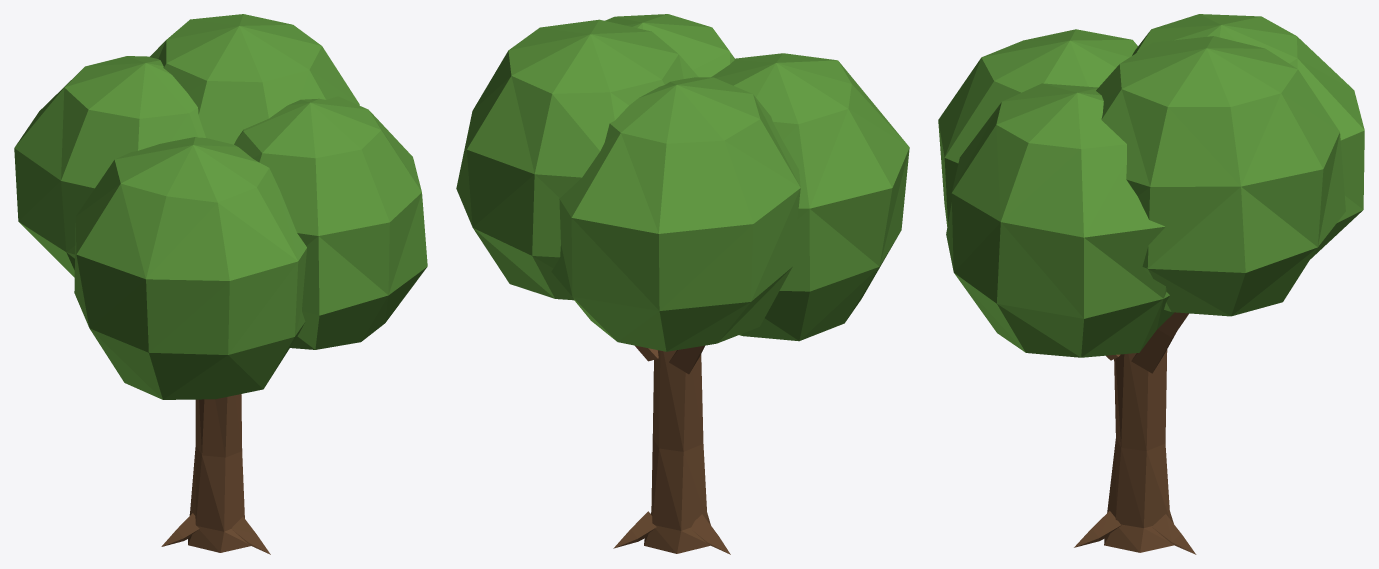
Rendered from LF_Broadleaf.fbx.
The picture shows the model from 3 angles, left to right: view 1: azimuth 30°, elevation 25°; view 2: azimuth 150°, elevation 25°; view 3: azimuth 270°, elevation 25°; orthographic projection. The views are drawn at different scales.
Visible parts, largest first — view 1: LF_Broadleaf_Crown, LF_Broadleaf_Trunk; view 2: LF_Broadleaf_Crown, LF_Broadleaf_Trunk; view 3: LF_Broadleaf_Crown, LF_Broadleaf_Trunk.
Part boxes in pixels (<box>): LF_Broadleaf_Crown: <box>14,14,427,399</box>; LF_Broadleaf_Trunk: <box>161,394,270,554</box>; LF_Broadleaf_Crown: <box>456,14,909,351</box>; LF_Broadleaf_Trunk: <box>613,345,730,554</box>; LF_Broadleaf_Crown: <box>938,14,1364,357</box>; LF_Broadleaf_Trunk: <box>1074,312,1196,554</box>.
Bounding box in the file's own units: 24 × 32 × 24.
